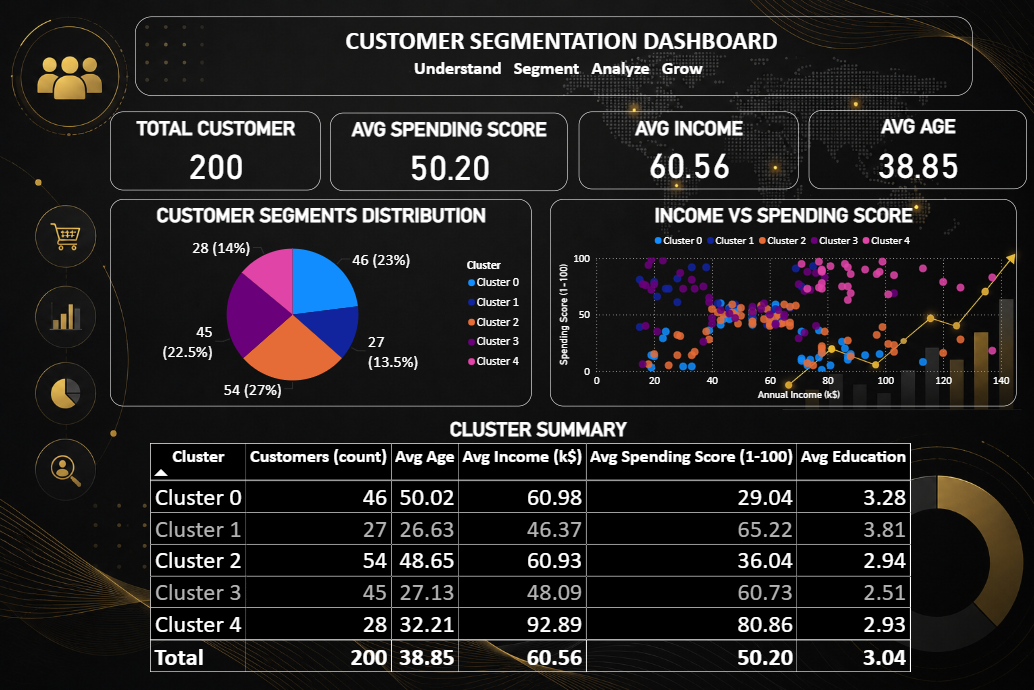

Layout of this report page (visuals, bound fields, positions):
{"tool":"powerbi","page":{"name":"Page 1","canvas":[1595,1050],"ordinal":0},"visuals":[{"type":"card","title":"TOTAL CUSTOMER","fields":{"Values":["CountNonNull(customer_segmented.CustomerID)"]},"box":[193,173.5,311.9,116.9],"z":0},{"type":"card","title":"AVG SPENDING SCORE","fields":{"Values":["Avg(customer_segmented.Spending Score (1-100))"]},"box":[518.7,175.1,351.9,115.6],"z":1000},{"type":"card","title":"AVG INCOME","fields":{"Values":["Avg(customer_segmented.Annual Income (k$))"]},"box":[886.8,173.5,325.5,115],"z":2000},{"type":"card","title":"AVG AGE","fields":{"Values":["Avg(customer_segmented.Age)"]},"box":[1227.9,171.5,323.5,116.9],"z":3000},{"type":"pieChart","title":"CUSTOMER SEGMENTS DISTRIBUTION","fields":{"Y":["CountNonNull(customer_segmented.CustomerID)"],"Series":["customer_segmented.Cluster"]},"box":[192.7,303.7,624.9,307.6],"z":4000},{"type":"scatterChart","title":"INCOME VS SPENDING SCORE","fields":{"X":["customer_segmented.Annual Income (k$)"],"Y":["customer_segmented.Spending Score (1-100)"],"Series":["customer_segmented.Cluster"]},"box":[844.8,303.7,691.1,307.6],"z":5000},{"type":"textbox","box":[229.6,33,1240.6,117.3],"z":6000},{"type":"tableEx","title":"CLUSTER SUMMARY","fields":{"Values":["customer_segmented.Cluster","CountNonNull(customer_segmented.CustomerID)","Avg(customer_segmented.Age)","Avg(customer_segmented.Annual Income (k$))","Avg(customer_segmented.Spending Score (1-100))","Avg(customer_segmented.Education)"]},"box":[231.9,627.6,1171.4,391.8],"z":7000}]}

Visuals, with their boxes in screenshot pixels (x1, y1, x2, y2), scaled from the page's 1595x1050 canvas onto the 1034x690 screenshot:
"TOTAL CUSTOMER" card: l=125, t=114, r=327, b=191
"AVG SPENDING SCORE" card: l=336, t=115, r=564, b=191
"AVG INCOME" card: l=575, t=114, r=786, b=190
"AVG AGE" card: l=796, t=113, r=1006, b=190
"CUSTOMER SEGMENTS DISTRIBUTION" pieChart: l=125, t=200, r=530, b=402
"INCOME VS SPENDING SCORE" scatterChart: l=548, t=200, r=996, b=402
textbox: l=149, t=22, r=953, b=99
"CLUSTER SUMMARY" tableEx: l=150, t=412, r=910, b=670
